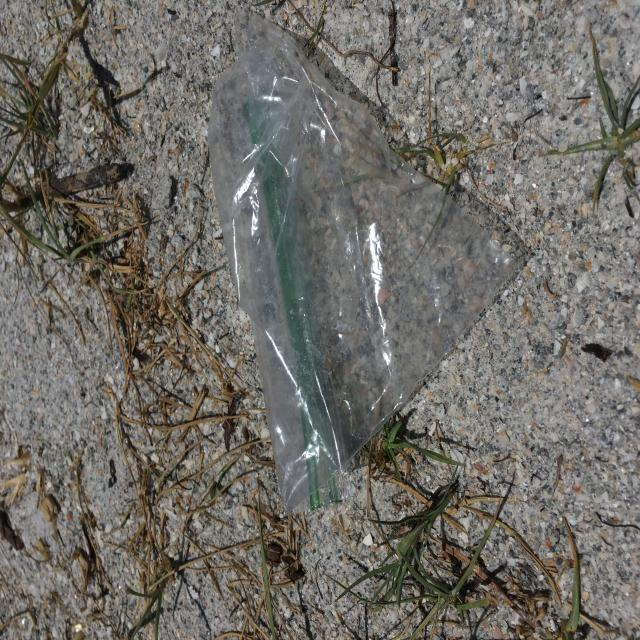litter: (211, 11, 532, 513)
